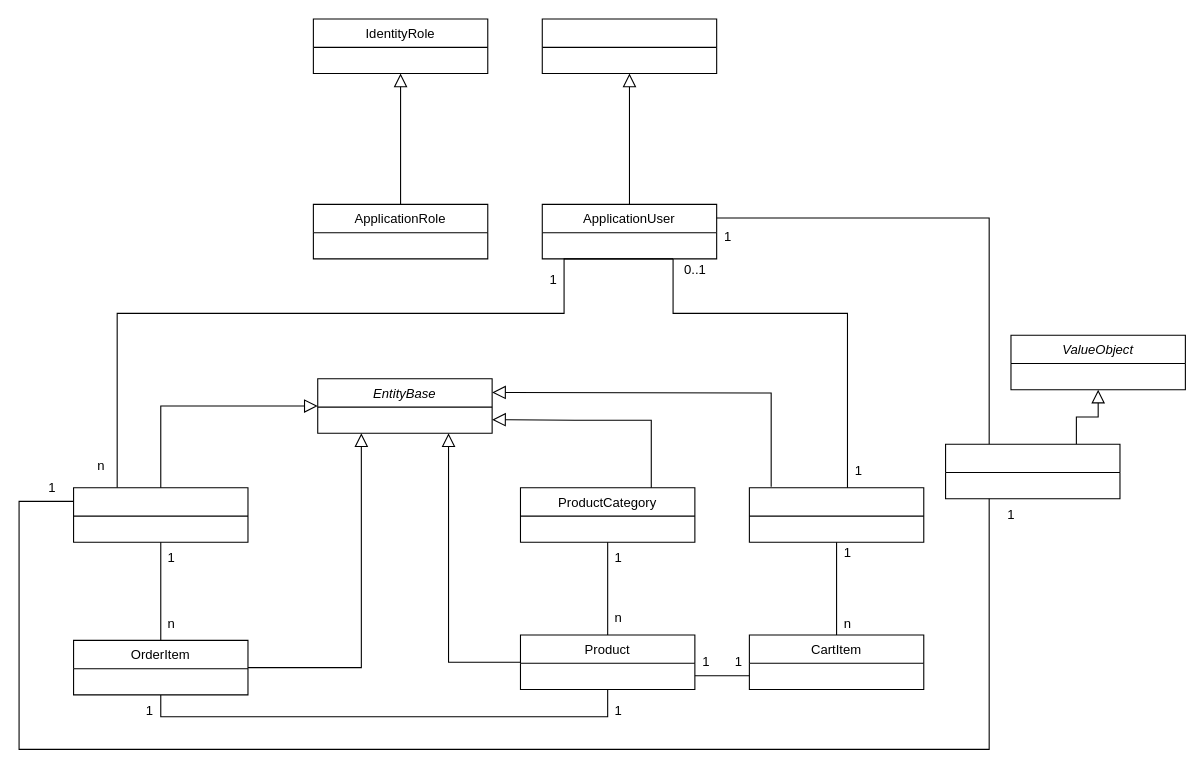
This 1204x770 diagram has some shape labels left out. The centre of each missing label's shape, as x and y in pixels:
"Address" goes at pixel 1032 471.
"Cart" goes at pixel 836 514.
"IdentityUser" goes at pixel 629 46.
"Order" goes at pixel 160 514.
